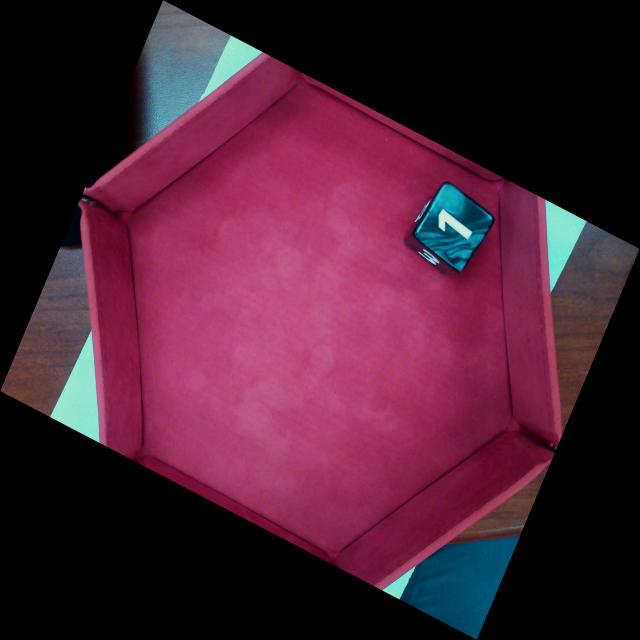dice: (407, 180, 498, 275)
